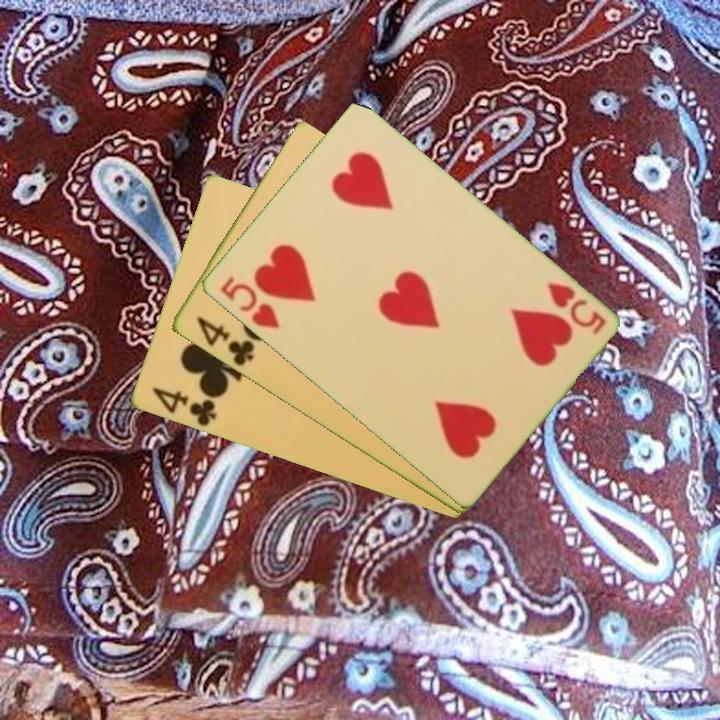4c: (193, 312, 257, 369), (148, 384, 219, 430)
5h: (543, 278, 609, 338), (216, 273, 282, 332)
